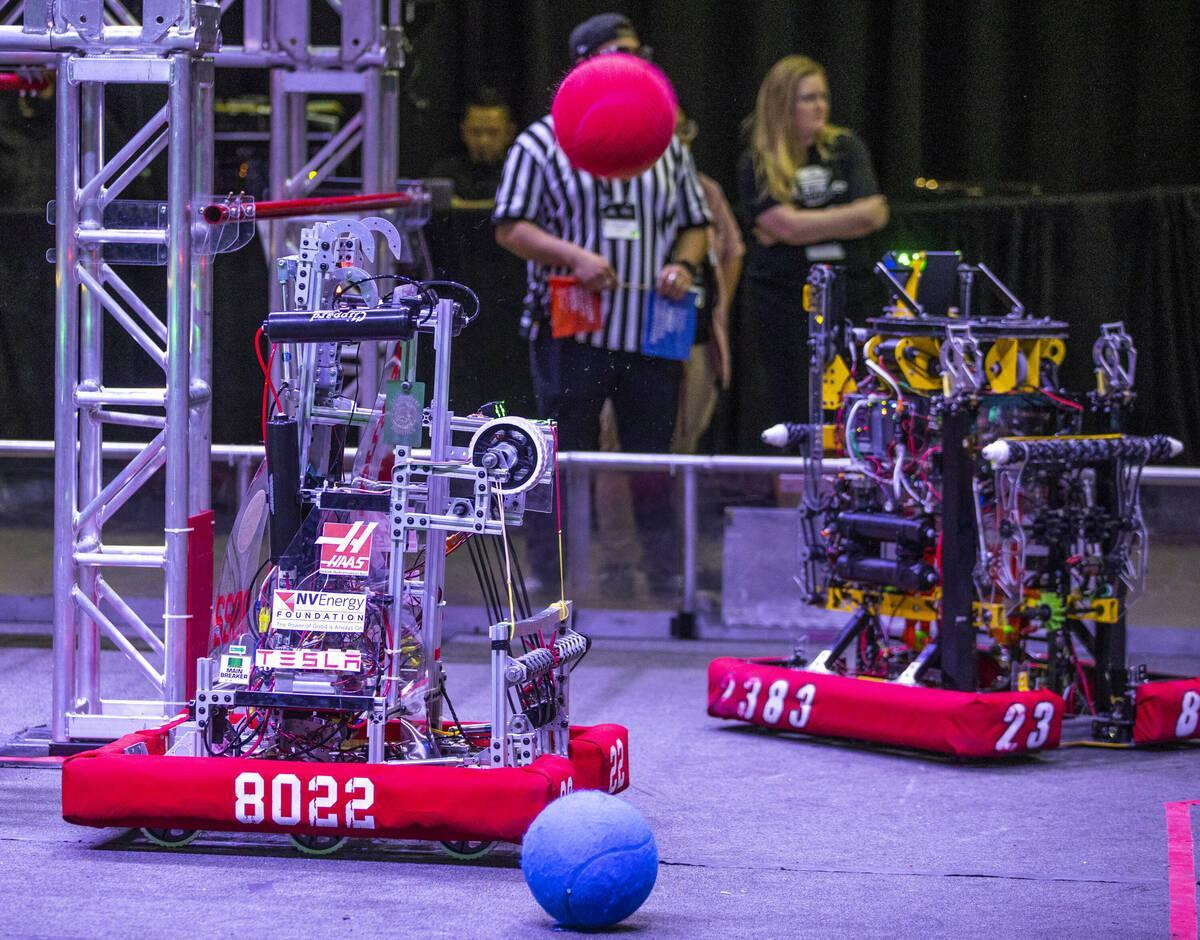robot: (57, 209, 639, 866), (696, 243, 1200, 764)
